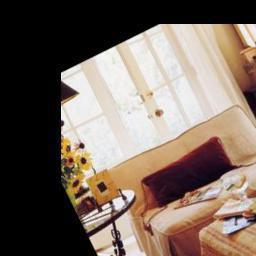Puerta: (116, 22, 214, 141)
